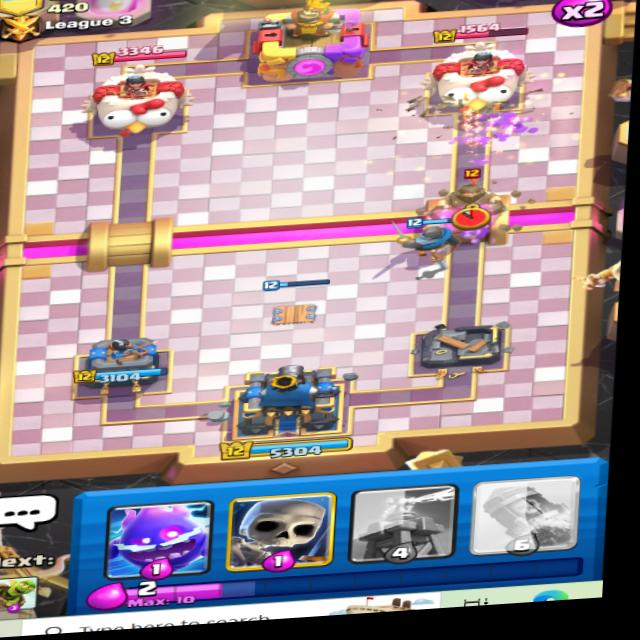mega-knight: (430, 164, 514, 229)
